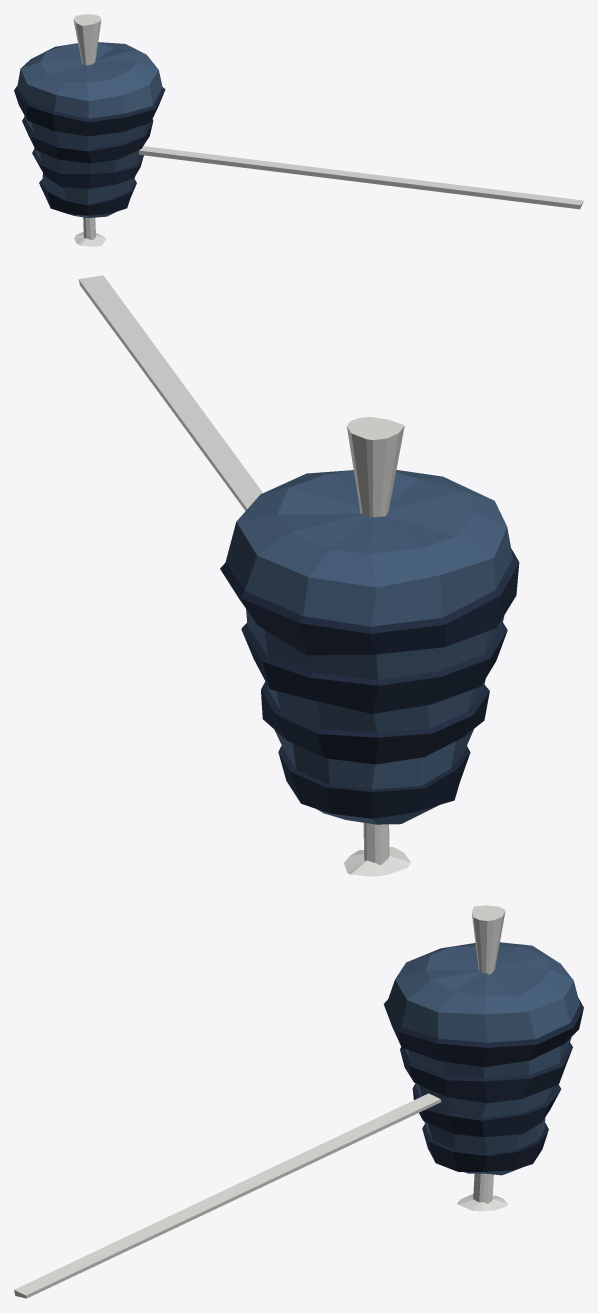
The model's file is ChefSache.fbx.
The picture shows the model from 3 angles, top to bottom: view 1: azimuth 30°, elevation 25°; view 2: azimuth 150°, elevation 25°; view 3: azimuth 270°, elevation 25°; orthographic projection. The views are drawn at different scales.
Visible parts, largest first — view 1: doener; view 2: doener; view 3: doener.
Part boxes in pixels (bbox=[...]): doener: bbox=[14, 14, 583, 246]; doener: bbox=[78, 275, 519, 876]; doener: bbox=[14, 905, 583, 1298].
Bounding box in the file's own units: 561 × 305 × 544.
